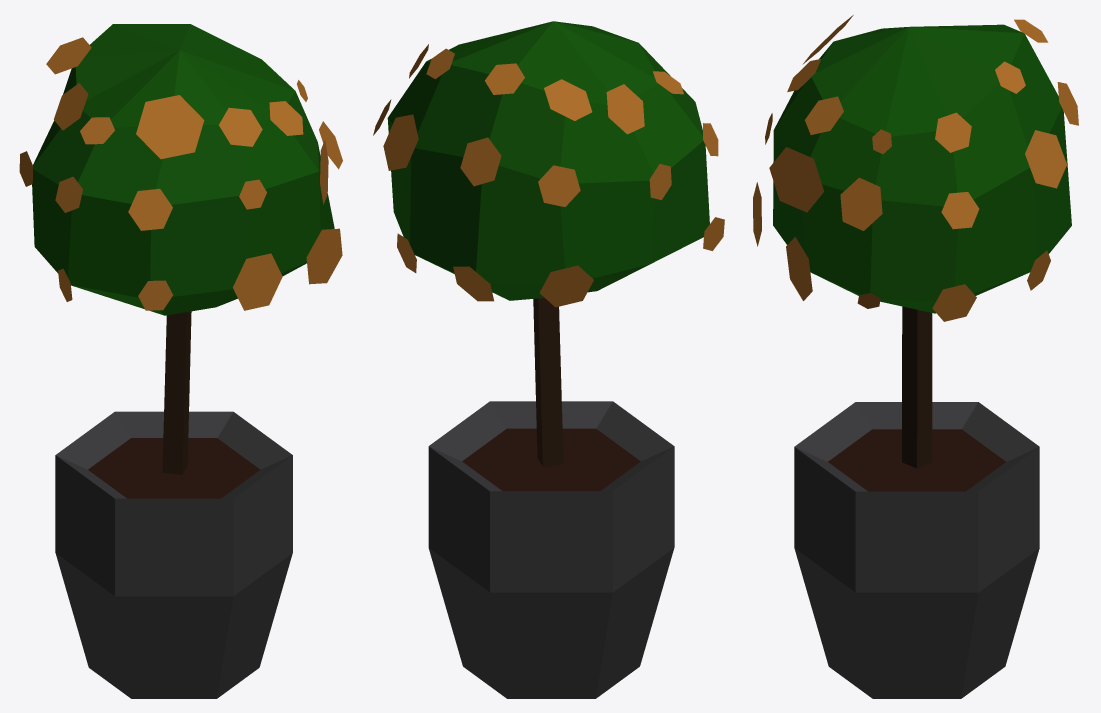
Rendered from Flower Pot.glb.
3 views of the same model, side by side, from view 1: azimuth 30°, elevation 25°; view 2: azimuth 150°, elevation 25°; view 3: azimuth 270°, elevation 25° (orthographic). The views are drawn at different scales.
Visible parts, largest first — view 1: FlowerPot7; view 2: FlowerPot7; view 3: FlowerPot7.
Boxes of the visible parts, bbox=[...] form: FlowerPot7: bbox=[19, 24, 342, 698]; FlowerPot7: bbox=[373, 21, 724, 698]; FlowerPot7: bbox=[753, 15, 1078, 698].
Size of the model in its own units: 0.8847 by 1.81 by 0.8544.
